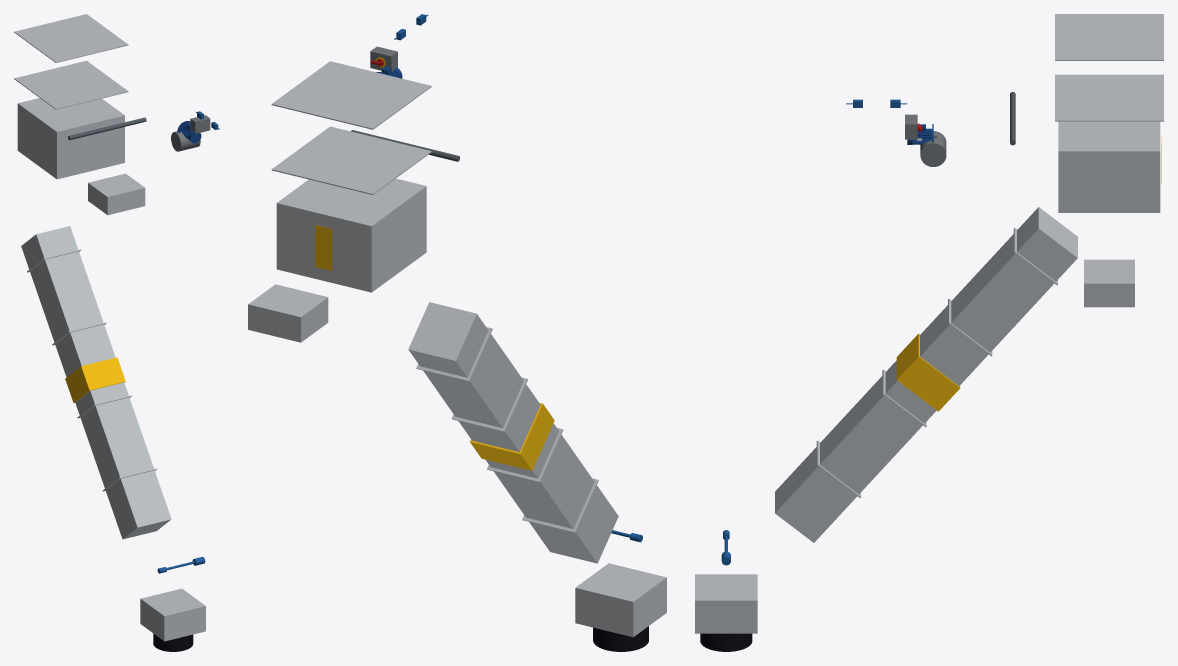
Rendered from DVO.glb.
3 views of the same model, side by side, from view 1: azimuth 30°, elevation 25°; view 2: azimuth 150°, elevation 25°; view 3: azimuth 270°, elevation 25° (orthographic). The views are drawn at different scales.
Visible parts, largest first — view 1: DV-O Chute de emergencia 450 × 450 a 50° (pierna B)#17, DV-O Cuerpo de la desviadora DV-O (pantalón)#0, DV-O Brida#2, DV-O Brida#1, DV-O Boca de carga de emergencia#23, DV-O Pierna A hacia la cinta principal#3, DV-O Tapa de inspección del chute#22, DV-O Manga de goma antipolvo#24, DV-O Eje de la clapeta#4, DV-O Actuador eléctrico de cuarto de vuelta#5, Q-M89 Seccionador de seguridad bloqueable#26; view 2: DV-O Chute de emergencia 450 × 450 a 50° (pierna B)#17, DV-O Cuerpo de la desviadora DV-O (pantalón)#0, DV-O Brida#2, DV-O Brida#1, DV-O Boca de carga de emergencia#23, DV-O Pierna A hacia la cinta principal#3, DV-O Tapa de inspección del chute#22, DV-O Manga de goma antipolvo#24, DV-O DV-O: A = a la planta / B = a la boca de emergencia#16; view 3: DV-O Chute de emergencia 450 × 450 a 50° (pierna B)#17, DV-O Cuerpo de la desviadora DV-O (pantalón)#0, DV-O Brida#1, DV-O Brida#2, DV-O Boca de carga de emergencia#23, DV-O Pierna A hacia la cinta principal#3, DV-O Tapa de inspección del chute#22, DV-O Manga de goma antipolvo#24, DV-O Actuador eléctrico de cuarto de vuelta#5.
Boxes of the visible parts, x1=… form: DV-O Chute de emergencia 450 × 450 a 50° (pierna B)#17: x1=21, y1=226, x2=171, y2=539; DV-O Cuerpo de la desviadora DV-O (pantalón)#0: x1=17, y1=98, x2=124, y2=179; DV-O Brida#2: x1=14, y1=14, x2=128, y2=62; DV-O Brida#1: x1=14, y1=60, x2=128, y2=109; DV-O Boca de carga de emergencia#23: x1=140, y1=588, x2=205, y2=641; DV-O Pierna A hacia la cinta principal#3: x1=88, y1=173, x2=145, y2=215; DV-O Tapa de inspección del chute#22: x1=65, y1=357, x2=125, y2=402; DV-O Manga de goma antipolvo#24: x1=153, y1=633, x2=193, y2=651; DV-O Eje de la clapeta#4: x1=68, y1=117, x2=146, y2=140; DV-O Actuador eléctrico de cuarto de vuelta#5: x1=171, y1=131, x2=200, y2=151; Q-M89 Seccionador de seguridad bloqueable#26: x1=190, y1=115, x2=210, y2=133; DV-O Chute de emergencia 450 × 450 a 50° (pierna B)#17: x1=408, y1=302, x2=618, y2=563; DV-O Cuerpo de la desviadora DV-O (pantalón)#0: x1=276, y1=178, x2=426, y2=292; DV-O Brida#2: x1=271, y1=61, x2=431, y2=129; DV-O Brida#1: x1=271, y1=126, x2=431, y2=194; DV-O Boca de carga de emergencia#23: x1=575, y1=563, x2=666, y2=637; DV-O Pierna A hacia la cinta principal#3: x1=248, y1=284, x2=328, y2=342; DV-O Tapa de inspección del chute#22: x1=470, y1=403, x2=554, y2=470; DV-O Manga de goma antipolvo#24: x1=593, y1=626, x2=648, y2=651; DV-O DV-O: A = a la planta / B = a la boca de emergencia#16: x1=315, y1=225, x2=332, y2=270; DV-O Chute de emergencia 450 × 450 a 50° (pierna B)#17: x1=775, y1=207, x2=1077, y2=542; DV-O Cuerpo de la desviadora DV-O (pantalón)#0: x1=1058, y1=121, x2=1160, y2=212; DV-O Brida#1: x1=1055, y1=74, x2=1163, y2=121; DV-O Brida#2: x1=1055, y1=14, x2=1163, y2=60; DV-O Boca de carga de emergencia#23: x1=695, y1=574, x2=757, y2=633; DV-O Pierna A hacia la cinta principal#3: x1=1084, y1=259, x2=1134, y2=307; DV-O Tapa de inspección del chute#22: x1=896, y1=333, x2=960, y2=411; DV-O Manga de goma antipolvo#24: x1=700, y1=633, x2=752, y2=651; DV-O Actuador eléctrico de cuarto de vuelta#5: x1=920, y1=131, x2=946, y2=166.
Size of the model in its own units: 1.72 by 6.15 by 4.13.
